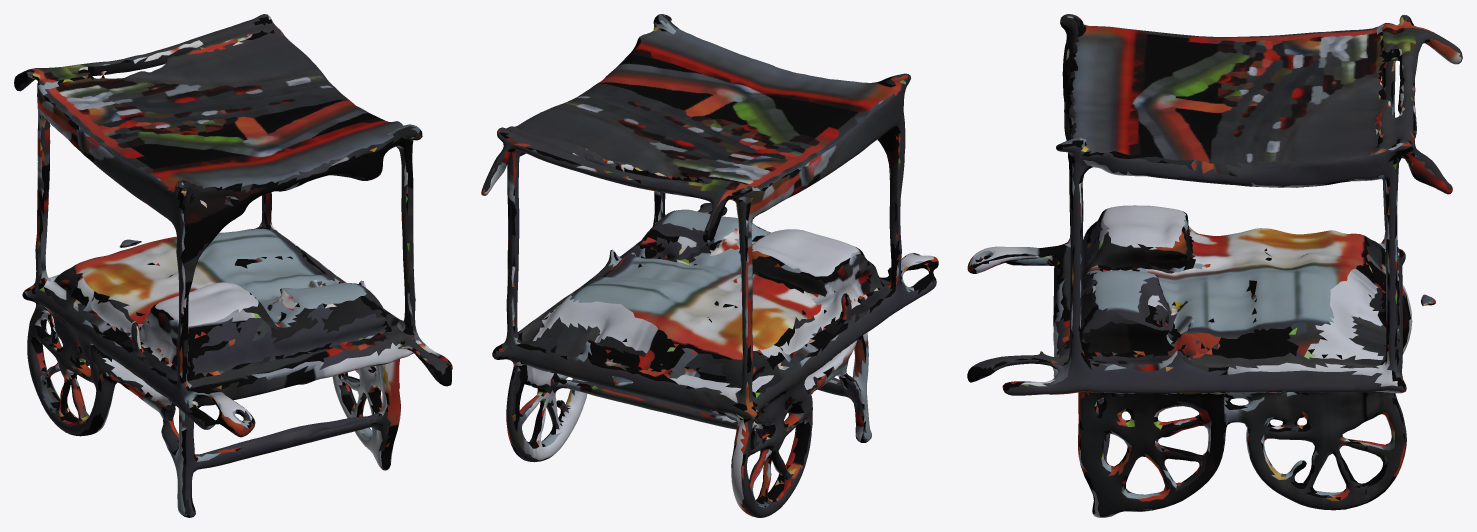
File: modelsdf.fbx
3 renders of one model, left to right at view 1: azimuth 30°, elevation 25°; view 2: azimuth 150°, elevation 25°; view 3: azimuth 270°, elevation 25°, orthographic. The views are drawn at different scales.
Visible parts, largest first — view 1: high_poly; view 2: high_poly; view 3: high_poly.
Part boxes in pixels (x1,y1,x2,y2): high_poly: (14, 14, 452, 517); high_poly: (481, 14, 938, 517); high_poly: (967, 14, 1462, 517).
Bounding box in the file's own units: 65.42 × 85.99 × 100.
